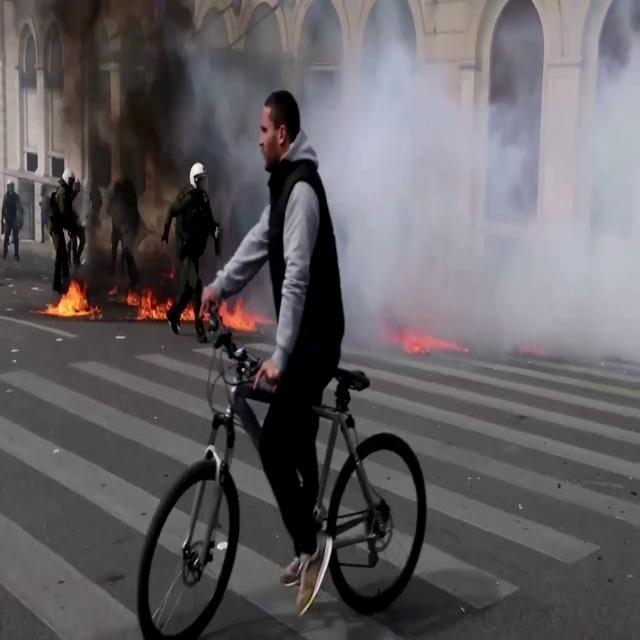Fire: (46, 276, 92, 320), (220, 295, 266, 337), (128, 283, 170, 325)
Smoke: (300, 9, 640, 364), (22, 0, 256, 278)
